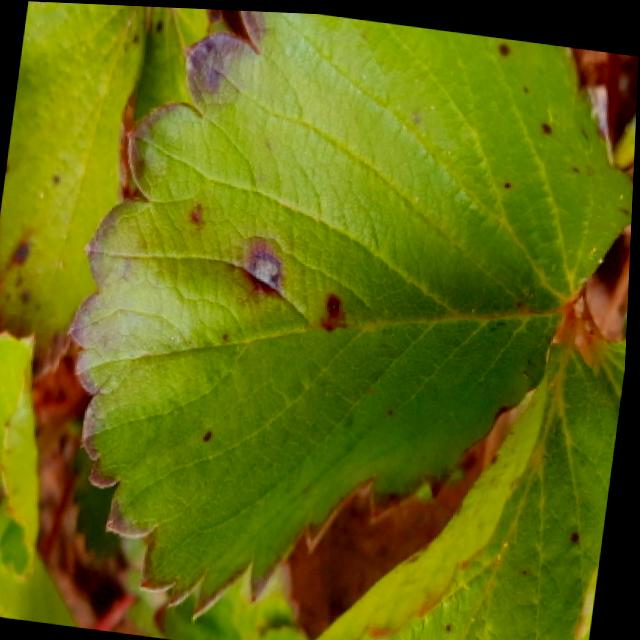Leaf Spot: (68, 8, 635, 620), (315, 335, 621, 640), (0, 1, 149, 386), (126, 5, 233, 124)
